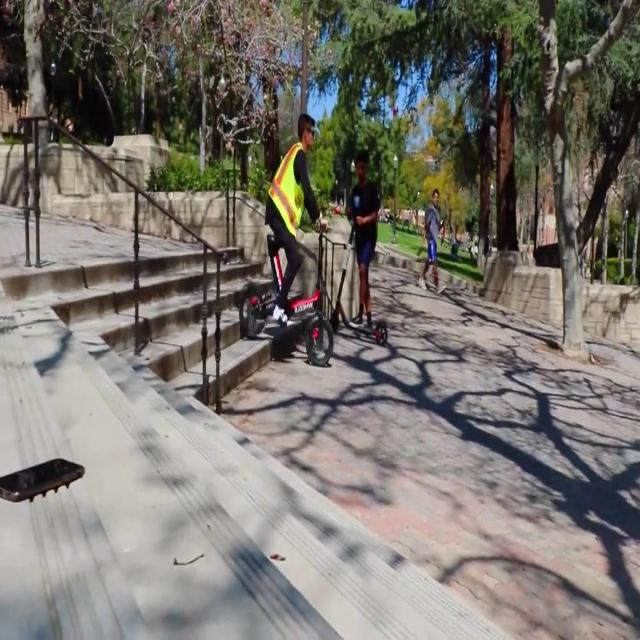Reflective-Jacket: (262, 140, 312, 242)
